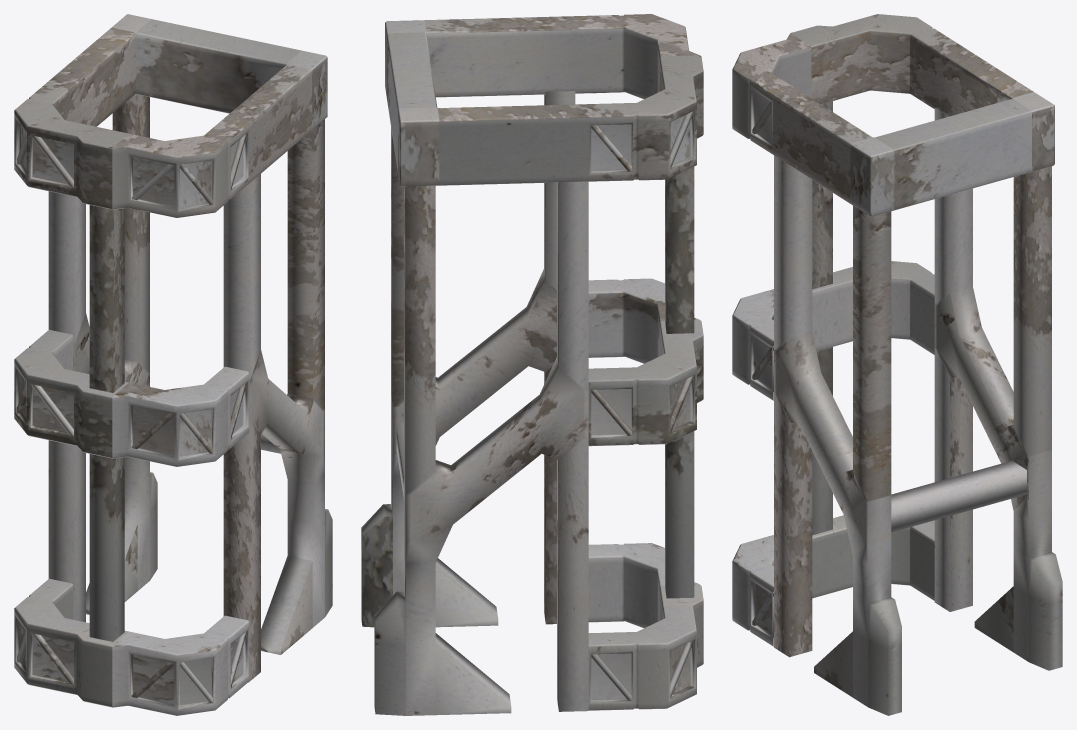
3 renders of one model, left to right at view 1: azimuth 30°, elevation 25°; view 2: azimuth 150°, elevation 25°; view 3: azimuth 270°, elevation 25°, orthographic. The views are drawn at different scales.
Visible parts, largest first — view 1: 1.004; view 2: 1.004; view 3: 1.004.
Boxes of the visible parts, x1,y1,x2,y2 form: 1.004: (14,14,332,715); 1.004: (361,14,703,715); 1.004: (732,14,1062,715).
Bounding box in the file's own units: 340 × 587 × 318.
